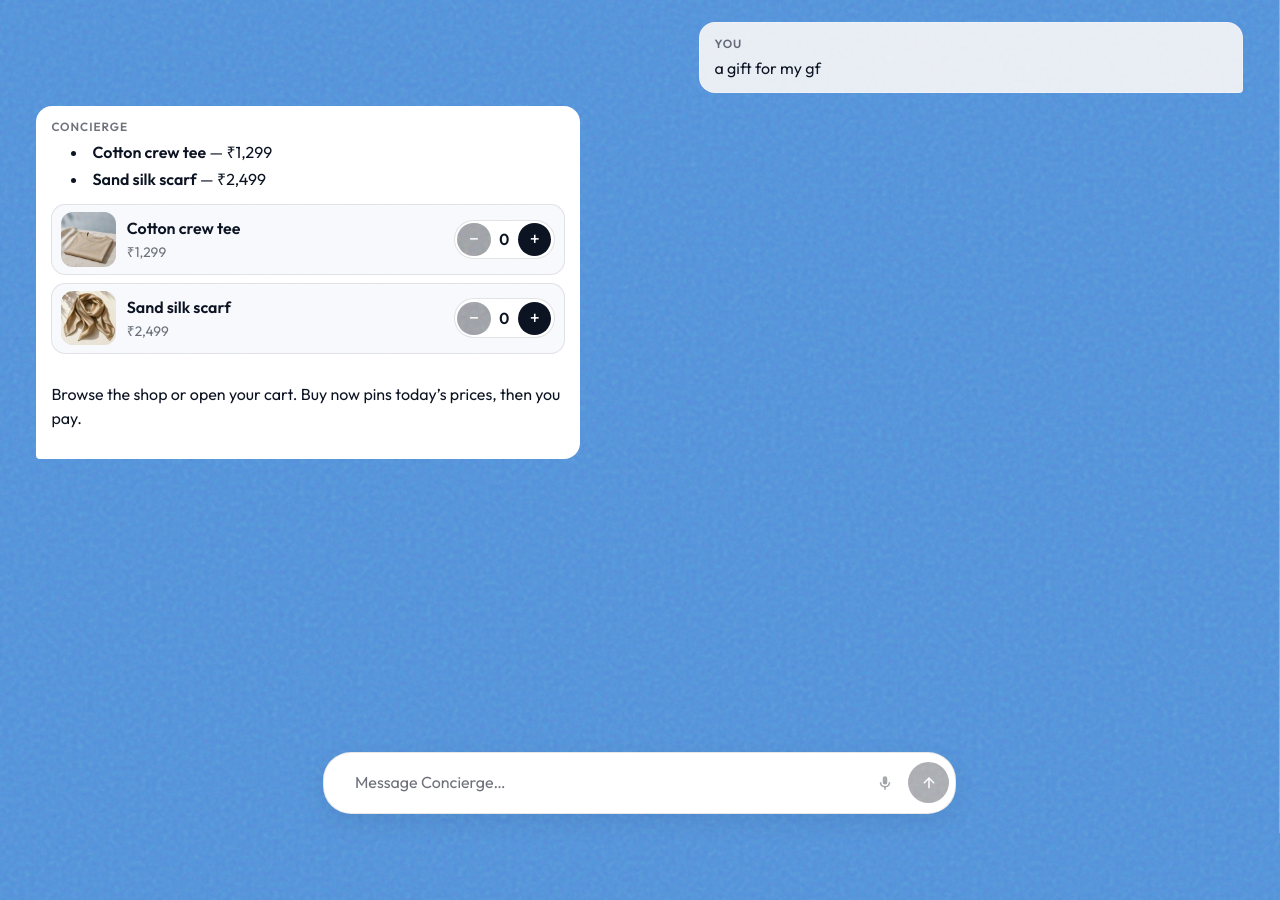
Scenario: payment outcome in the chat thread › shows clickable product thumbnails from Concierge copy and can ask in the same chat
expect the button named "More Cotton crew tee" is shown: met, box [518,223,551,256]
expect the button named "Talk" is disabled: met, box [865,762,906,803]
Click the button "Cotton crew tee ₹1,299": (88, 239) [61,212,445,267]
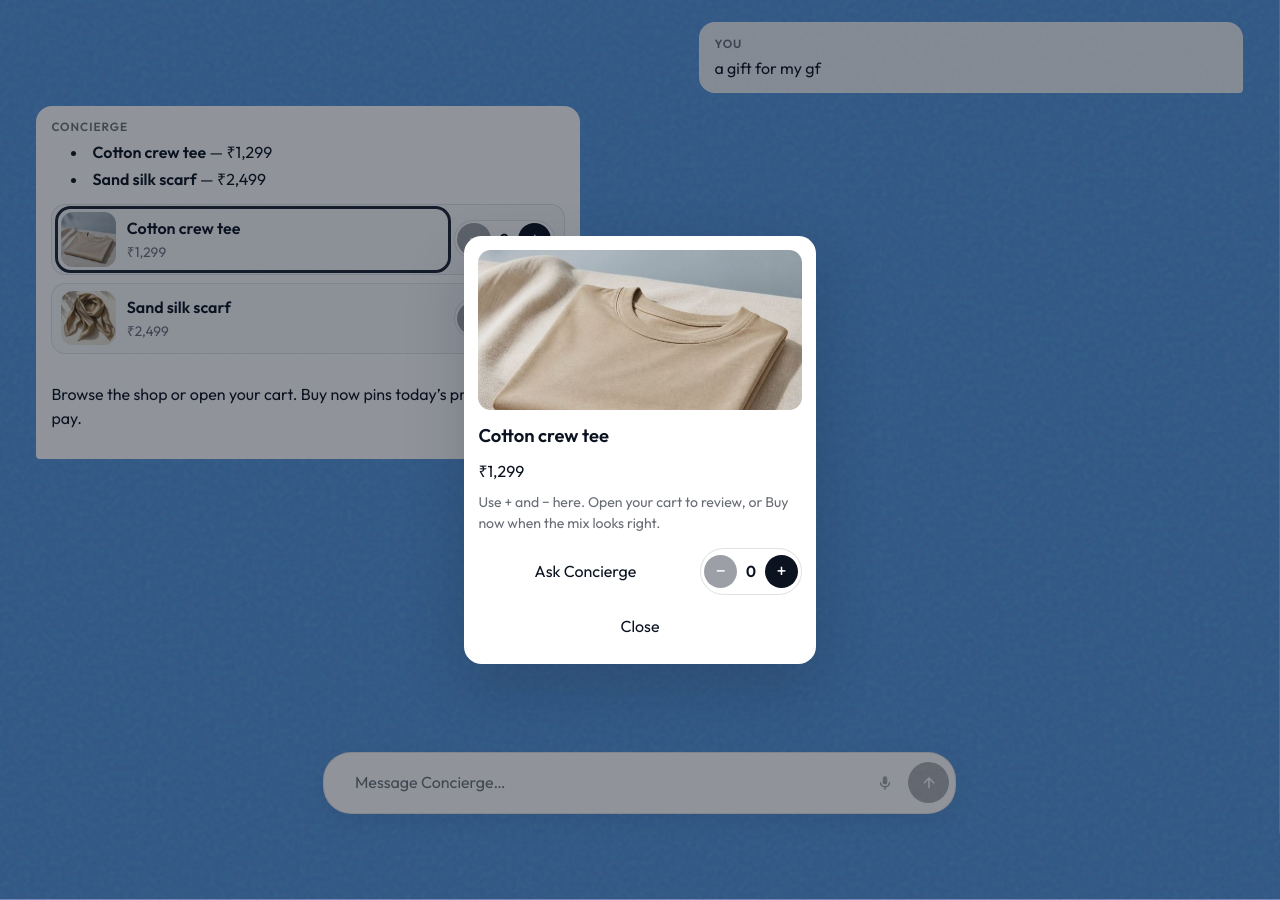
expect the dialog "Cotton crew tee" is shown: met
Click the button "Ask Concierge": (585, 571) [478,548,692,594]
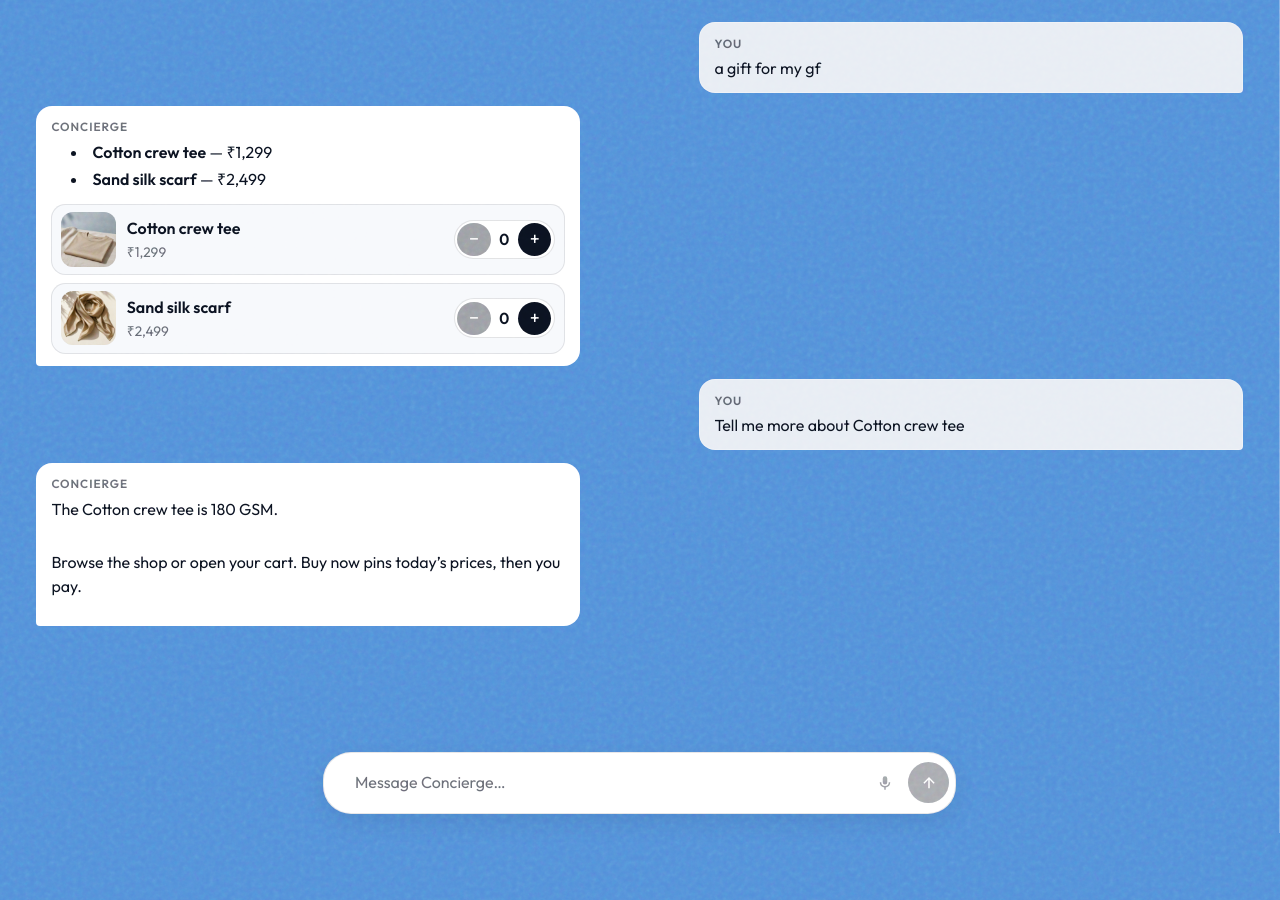
expect the text "Tell me more about Cotton crew tee" is shown: met, box [714,415,965,435]
